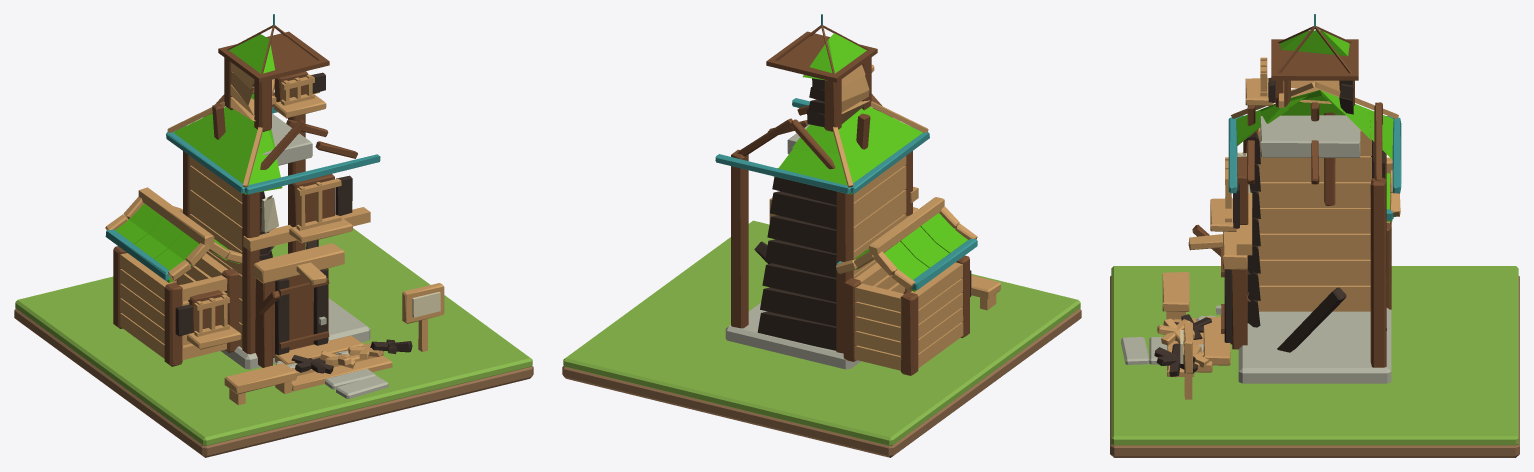
File: town_hall_l04_damaged_LOD1.glb
3 views of the same model, side by side, from view 1: azimuth 30°, elevation 25°; view 2: azimuth 150°, elevation 25°; view 3: azimuth 270°, elevation 25° (orthographic). The views are drawn at different scales.
Visible parts, largest first — view 1: town_hall_l04_damaged_foundation.001, town_hall_l04_damaged_grass_tile.001, town_hall_l04_damaged_earth_tile.001, town_hall_l04_damaged_path_stone.005; view 2: town_hall_l04_damaged_foundation.001, town_hall_l04_damaged_grass_tile.001, town_hall_l04_damaged_earth_tile.001; view 3: town_hall_l04_damaged_foundation.001, town_hall_l04_damaged_grass_tile.001, town_hall_l04_damaged_earth_tile.001, town_hall_l04_damaged_path_stone.005.
Boxes of the visible parts, x1=… form: town_hall_l04_damaged_foundation.001: x1=105, y1=14, x2=444, y2=405; town_hall_l04_damaged_grass_tile.001: x1=15, y1=228, x2=532, y2=445; town_hall_l04_damaged_earth_tile.001: x1=14, y1=308, x2=533, y2=457; town_hall_l04_damaged_path_stone.005: x1=336, y1=375, x2=388, y2=398; town_hall_l04_damaged_foundation.001: x1=715, y1=14, x2=1000, y2=375; town_hall_l04_damaged_grass_tile.001: x1=563, y1=220, x2=1080, y2=445; town_hall_l04_damaged_earth_tile.001: x1=562, y1=308, x2=1081, y2=457; town_hall_l04_damaged_foundation.001: x1=1154, y1=14, x2=1401, y2=399; town_hall_l04_damaged_grass_tile.001: x1=1111, y1=266, x2=1518, y2=445; town_hall_l04_damaged_earth_tile.001: x1=1110, y1=276, x2=1519, y2=457; town_hall_l04_damaged_path_stone.005: x1=1121, y1=337, x2=1149, y2=364.
Bounding box in the file's own units: 3.6 × 3.48 × 3.6.
